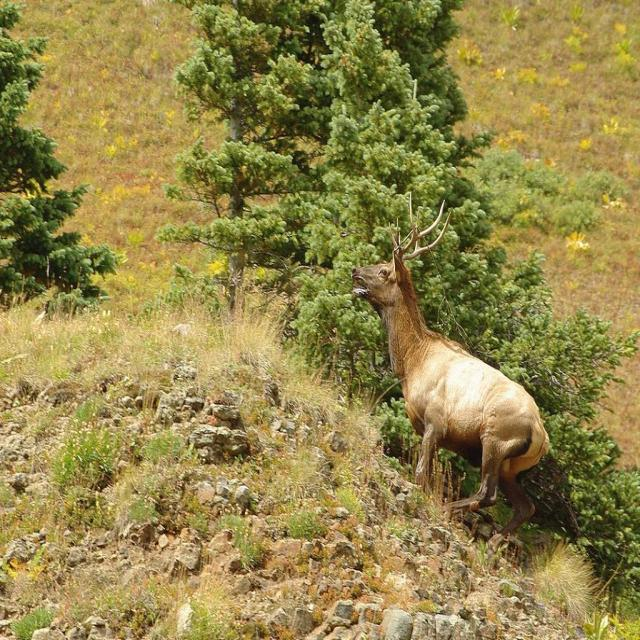Deer: (350, 191, 550, 558)
